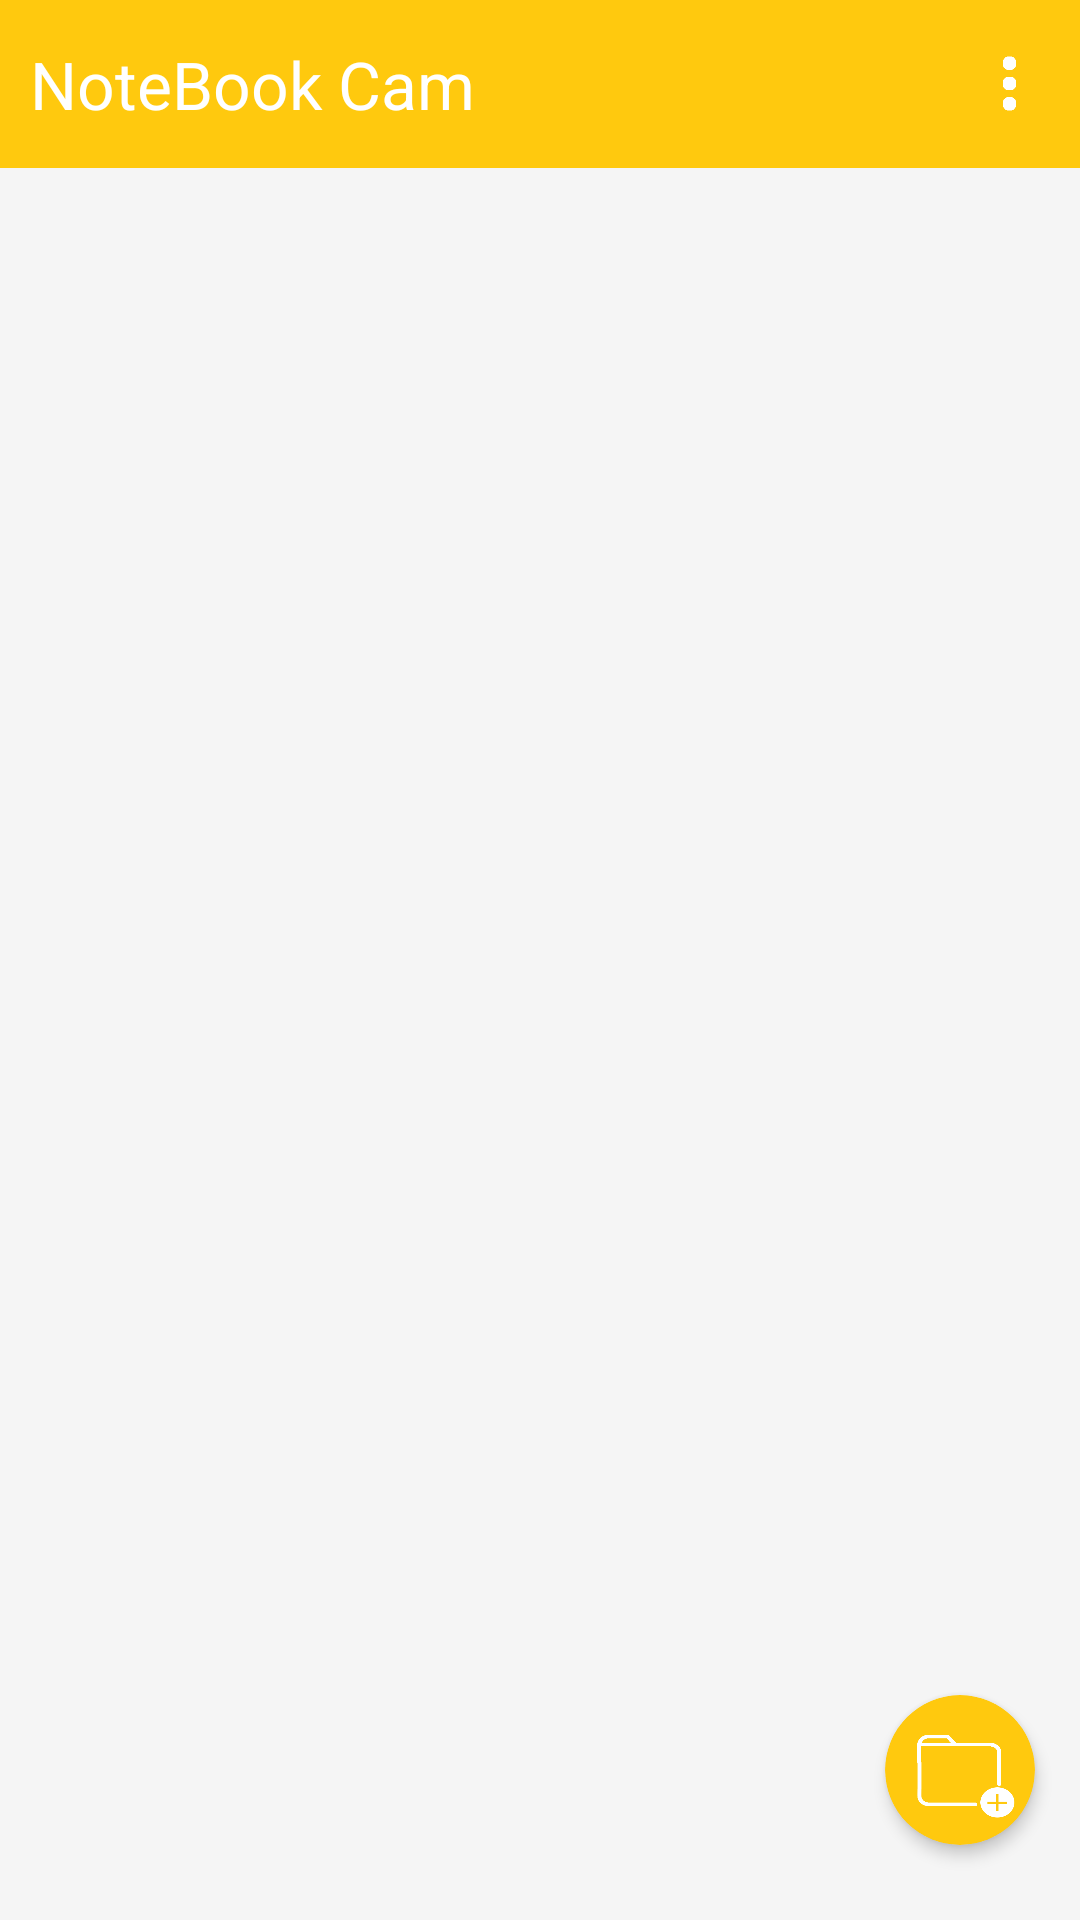

Screen size 1080x1920. Icon name, then its center in pixels as point (x, y):
folder: point (969, 1777)
